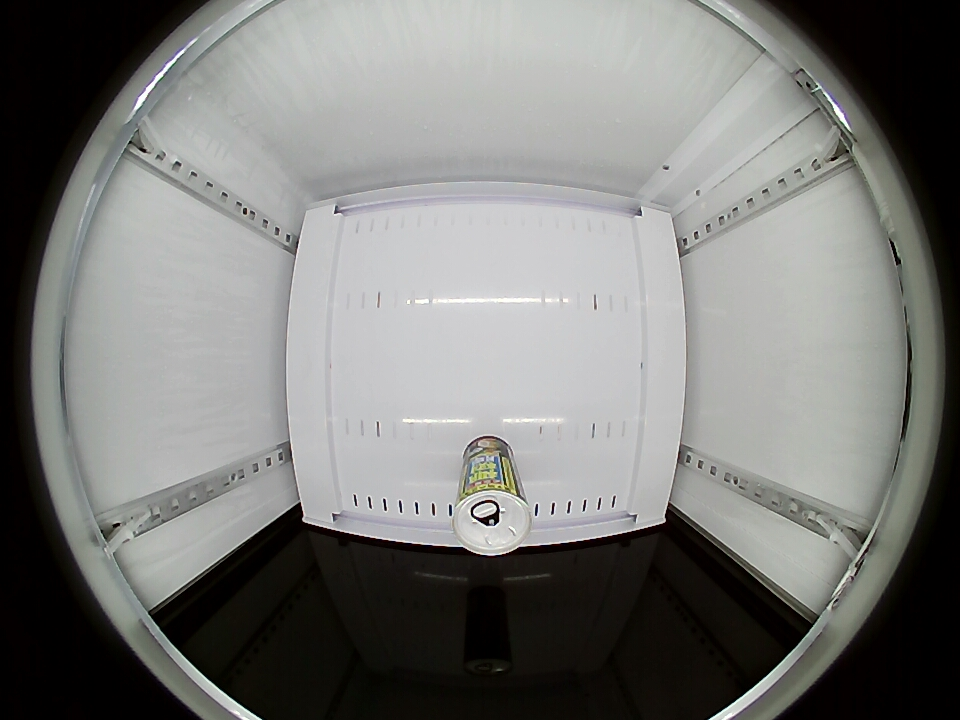yezhi: (452, 477, 533, 555)
